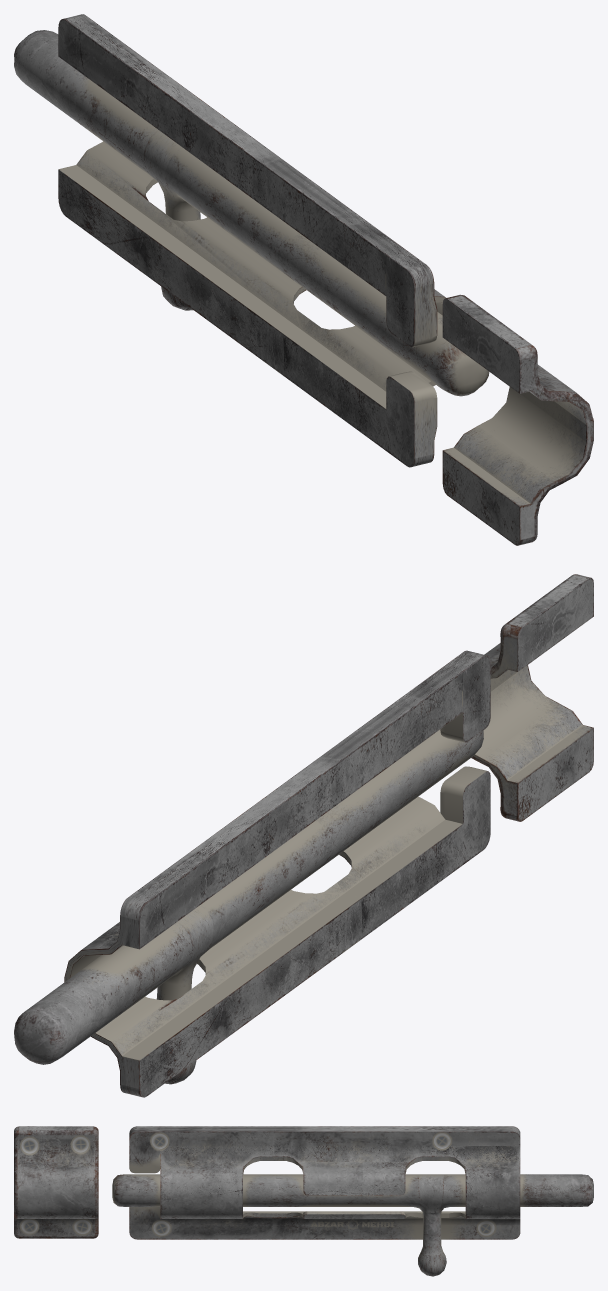
File: lock_sliding_metal_door_12_mb.glb
3 views of the same model, one above another, from view 1: azimuth 30°, elevation 25°; view 2: azimuth 150°, elevation 25°; view 3: azimuth 270°, elevation 25° (orthographic). The views are drawn at different scales.
Visible parts, largest first — view 1: Boole, Remesh, Boole_2; view 2: Boole, Remesh, Boole_2; view 3: Boole, Remesh, Boole_2.
Boxes of the visible parts, x1,y1,x2,y2 form: Boole: (58,14,445,467); Remesh: (14,30,489,396); Boole_2: (442,294,593,545); Boole: (64,650,490,1097); Remesh: (14,729,483,1084); Boole_2: (471,574,593,821); Boole: (129,1126,520,1239); Remesh: (112,1174,593,1276); Boole_2: (14,1126,98,1238).
Bounding box in the file's own units: 0.8164 × 2.51 × 9.74.
1 material, 1 textured.
